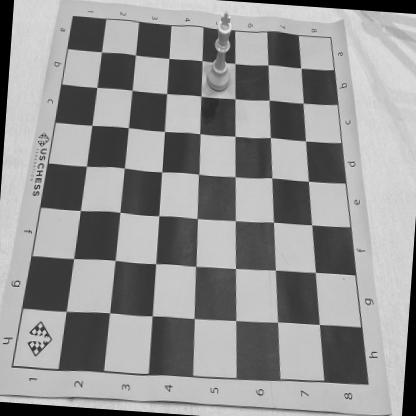king: (206, 10, 235, 94)
